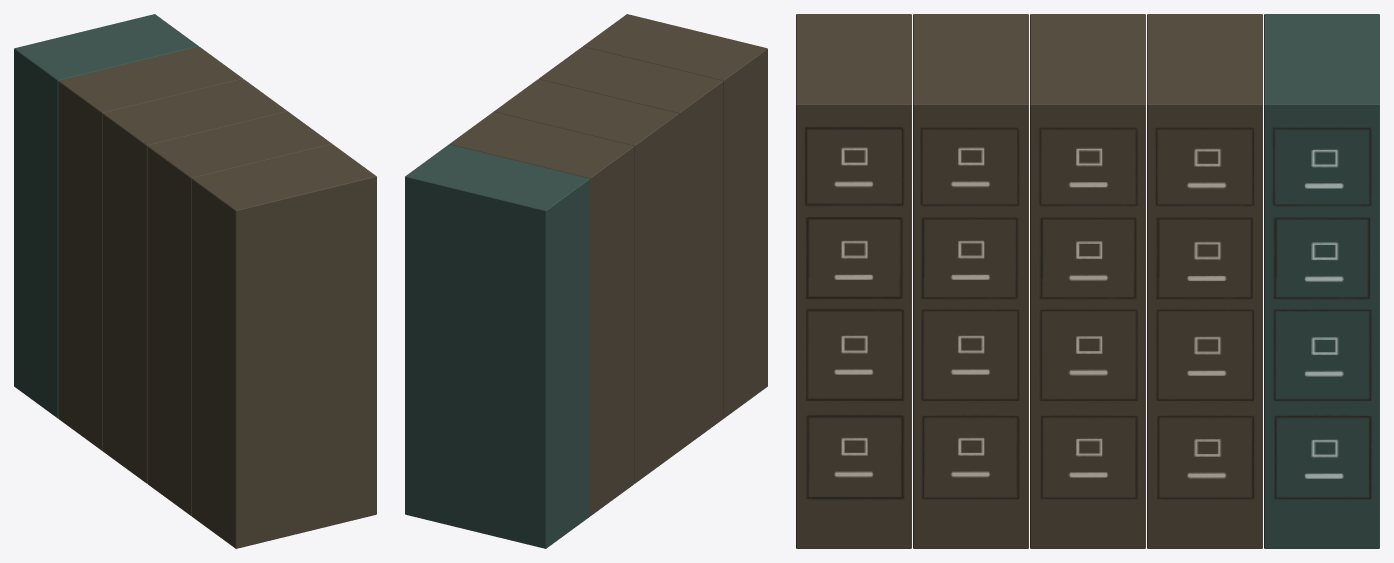
File: Another Filing Cabinet.fbx
3 renders of one model, left to right at view 1: azimuth 30°, elevation 25°; view 2: azimuth 150°, elevation 25°; view 3: azimuth 270°, elevation 25°, orthographic. The views are drawn at different scales.
Parts seen in each view (by area): view 1: Filing Cabinets; view 2: Filing Cabinets; view 3: Filing Cabinets.
Part boxes in pixels (left/top/right/bottom): Filing Cabinets: left=14, top=14, right=376, bottom=548; Filing Cabinets: left=405, top=14, right=767, bottom=548; Filing Cabinets: left=796, top=14, right=1379, bottom=548.
Size of the model in its own units: 0.7941 by 1.82 by 2.16.
